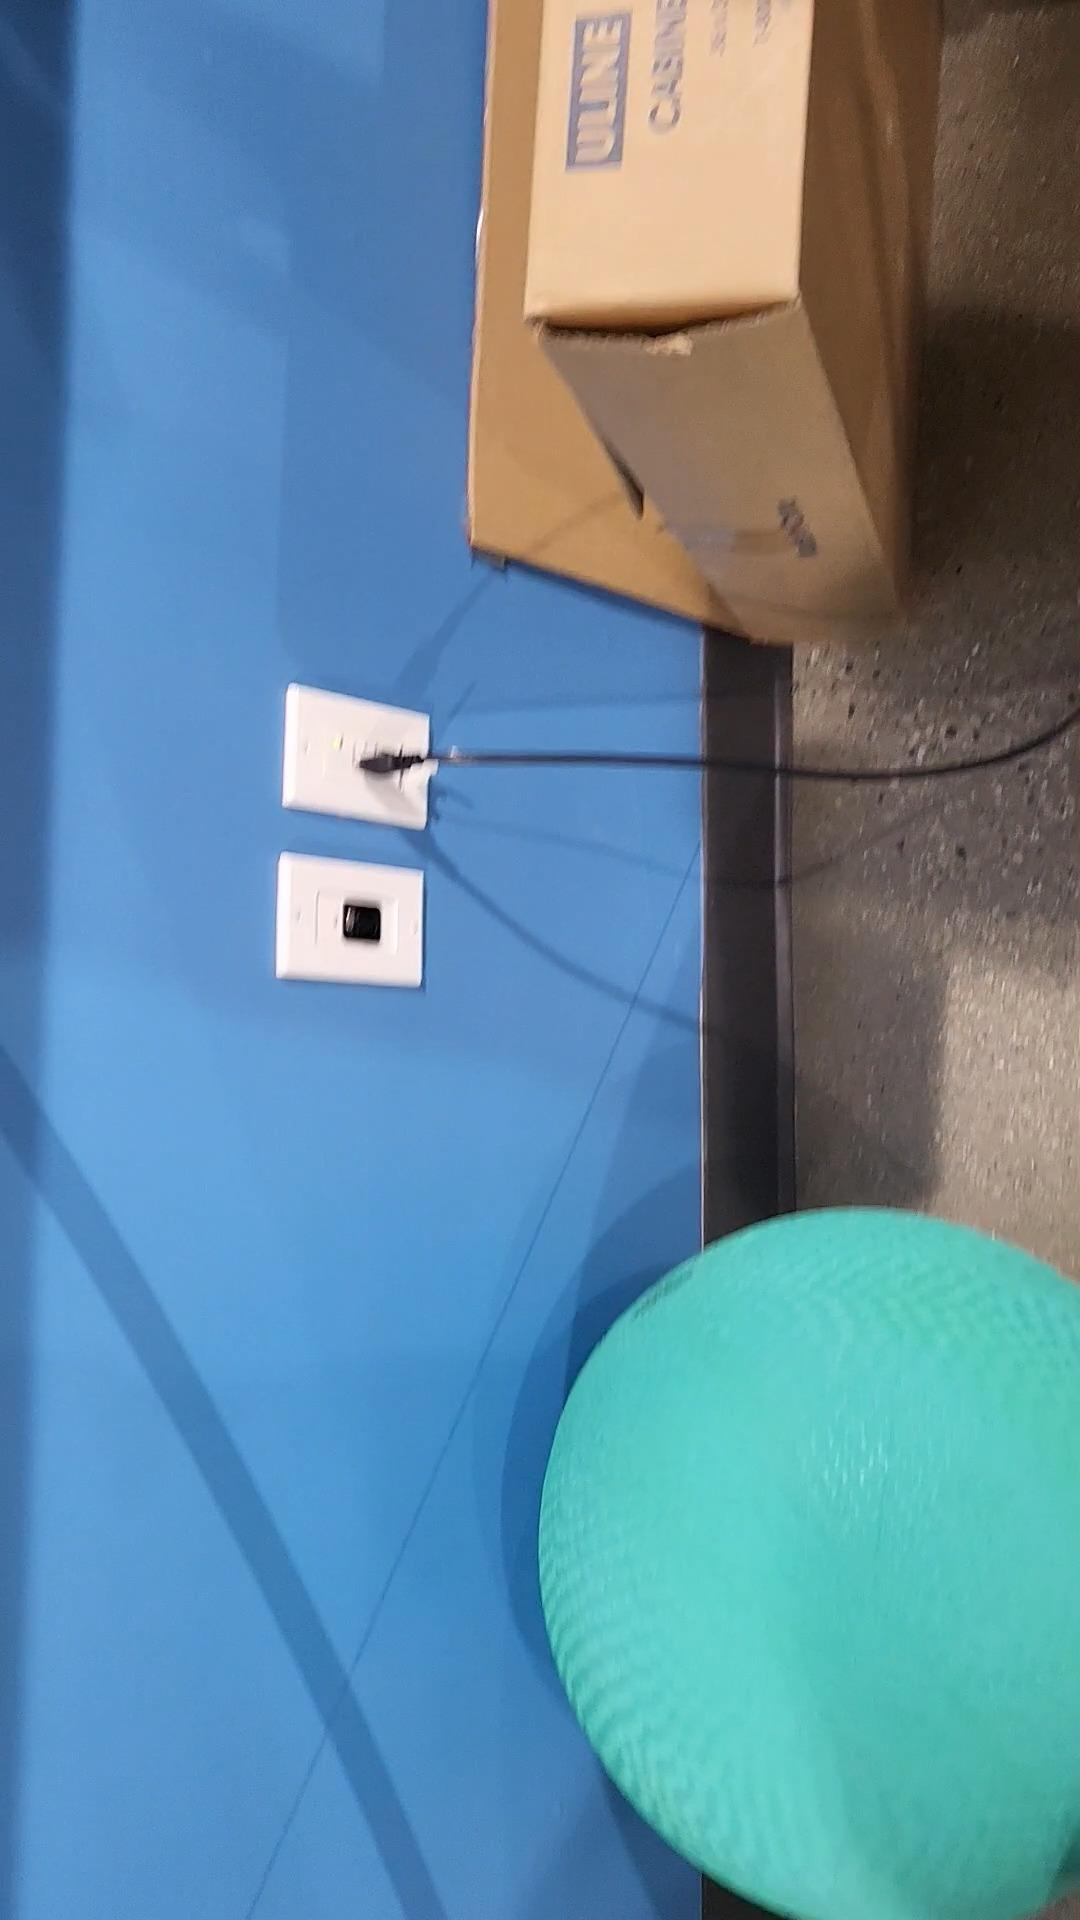algae: (535, 1208, 1080, 1920)
